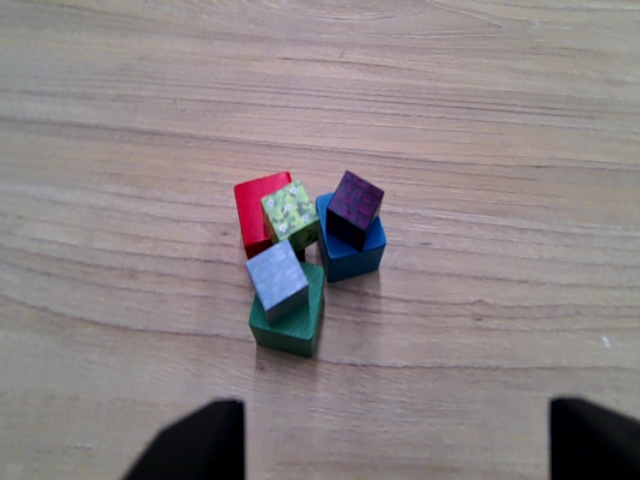brick: (328, 173, 384, 245)
grass: (259, 183, 320, 246)
stone: (246, 243, 311, 314)
